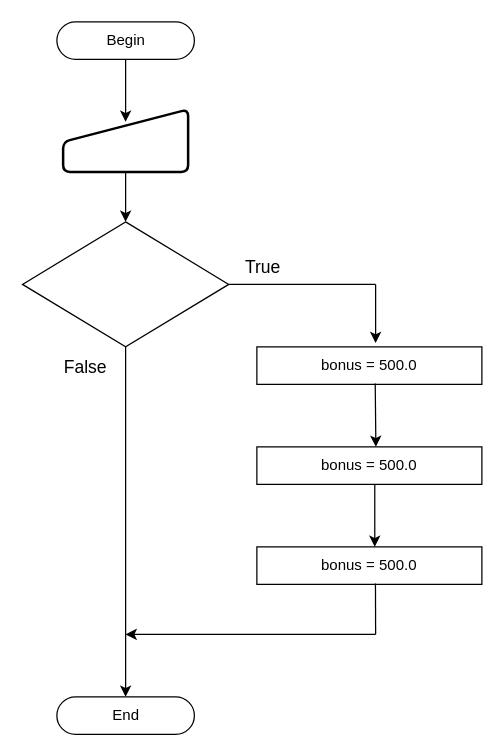
The diagram is 504 pixels wide and 756 high, and some of its shapes have lost their labels. Here are the shapes that lost their labels. From the top down, the box of each, then its label:
(61, 108, 189, 172): Score
(21, 221, 229, 347): Sales > 50,000
